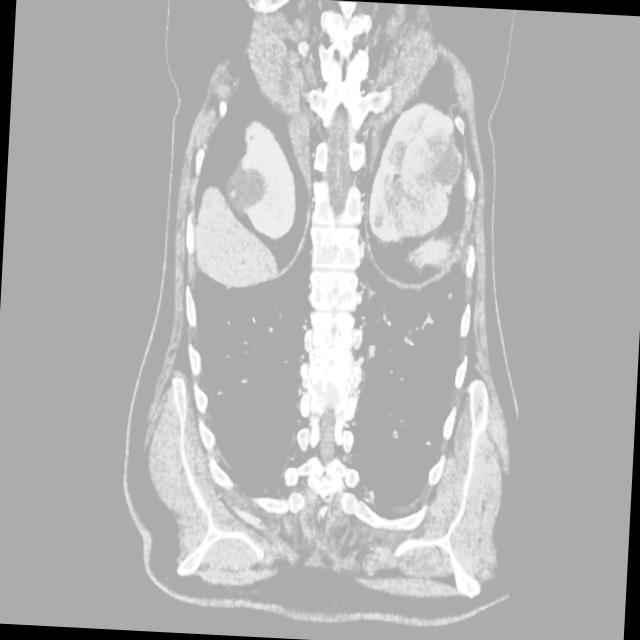TUMOR: (137, 24, 557, 343)
